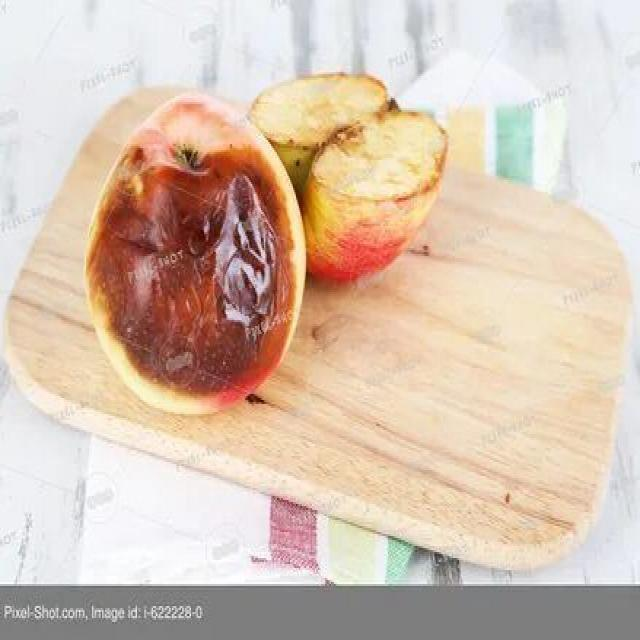Rotten: (73, 97, 300, 430), (237, 75, 438, 258)
